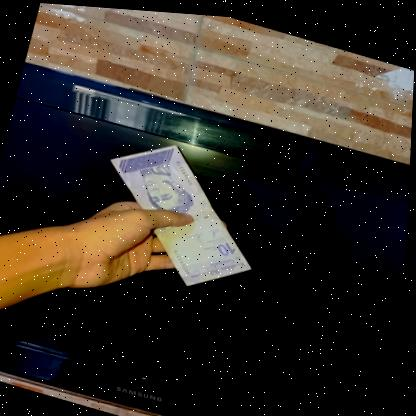ten-front-vef: (83, 123, 278, 298)
